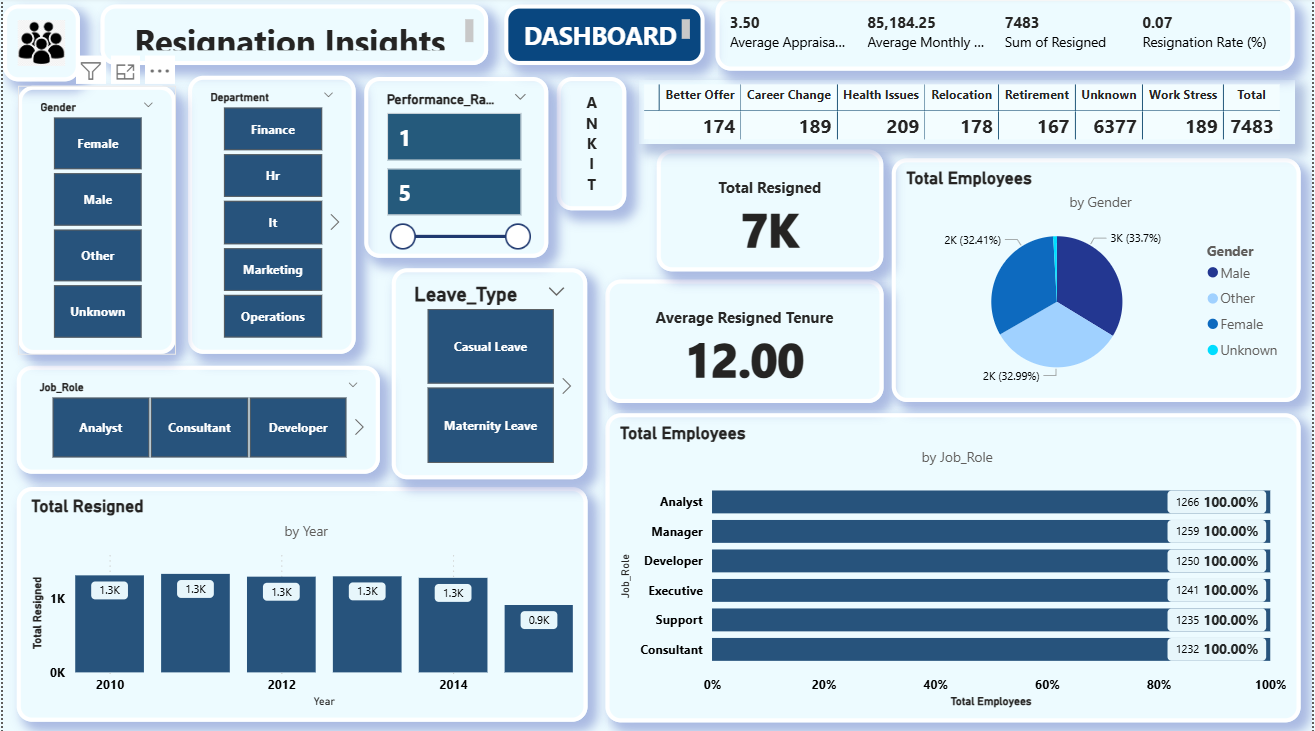

The dashboard page shown, as its layout file describes it:
{"tool":"powerbi","page":{"name":"Resignation Insights ","canvas":[1280,720],"ordinal":3},"visuals":[{"type":"textbox","box":[95.8,7,378.9,59.2],"z":0},{"type":"textbox","box":[490.1,7,195.8,59.2],"z":1000},{"type":"cardVisual","fields":{"Data":["ROW.Average Resigned Tenure"]},"box":[589.2,275.9,272.2,120.6],"z":2000},{"type":"cardVisual","fields":{"Data":["ROW.Total Resigned"]},"box":[640.1,149.2,221.2,119.3],"z":3000},{"type":"slicer","fields":{"Values":["ROW.Department"]},"box":[181.5,77.1,164.1,272.2],"z":4000},{"type":"multiRowCard","fields":{"Values":["ROW.Average Appraisal Score","ROW.Average Monthly Income","Sum(ROW.Resigned)","ROW.Resignation Rate (%)"]},"box":[697.2,0,566.2,71.8],"z":5000},{"type":"textbox","box":[545.4,78.3,68.5,130.8],"z":6000},{"type":"image","box":[0,6.8,75.1,75.1],"z":7000},{"type":"slicer","fields":{"Values":["ROW.Job_Role"]},"box":[13.7,360.5,355.5,105.7],"z":8000},{"type":"columnChart","fields":{"Category":["ROW.Date_of_Joining.Variation.Date Hierarchy.Year","ROW.Date_of_Joining.Variation.Date Hierarchy.Month"],"Y":["ROW.Total Resigned"]},"box":[13.7,479.8,558.1,229.9],"z":9000},{"type":"pieChart","fields":{"Category":["ROW.Gender"],"Y":["ROW.Total Employees"]},"box":[868.8,157.9,400.2,238.6],"z":10000},{"type":"hundredPercentStackedBarChart","fields":{"Category":["ROW.Job_Role"],"Y":["ROW.Total Employees"]},"box":[589.2,407.7,679.9,302],"z":11000},{"type":"pivotTable","fields":{"Columns":["ROW.Clean_Resignation_Reason","ROW.Department","ROW.Job_Role"],"Values":["ROW.Total Employees"]},"box":[622.7,80.8,641.4,63.4],"z":12000},{"type":"slicer","fields":{"Values":["ROW.Gender"]},"box":[14.9,87,154.1,262.3],"z":13000},{"type":"slicer","fields":{"Values":["ROW.Performance_Rating"]},"box":[354.6,77,179.8,177.3],"z":14000},{"type":"slicer","fields":{"Values":["ROW.Leave_Type"]},"box":[380.3,264.8,191.4,206.3],"z":15000}]}

Visuals, with their boxes in screenshot pixels (x1, y1, x2, y2), scaled from the page's 1280x720 canvas onto the 1315x731 screenshot:
textbox: locate(98, 7, 488, 67)
textbox: locate(504, 7, 705, 67)
cardVisual - ROW.Average Resigned Tenure: locate(605, 280, 885, 403)
cardVisual - ROW.Total Resigned: locate(658, 151, 885, 273)
slicer - ROW.Department: locate(186, 78, 355, 355)
multiRowCard - ROW.Average Appraisal Score x ROW.Average Monthly Income: locate(716, 0, 1298, 73)
textbox: locate(560, 79, 631, 212)
image: locate(0, 7, 77, 83)
slicer - ROW.Job_Role: locate(14, 366, 379, 473)
columnChart - ROW.Date_of_Joining.Variation.Date Hierarchy.Year x ROW.Date_of_Joining.Variation.Date Hierarchy.Month: locate(14, 487, 587, 721)
pieChart - ROW.Gender x ROW.Total Employees: locate(893, 160, 1304, 403)
hundredPercentStackedBarChart - ROW.Job_Role x ROW.Total Employees: locate(605, 414, 1304, 721)
pivotTable - ROW.Clean_Resignation_Reason x ROW.Department: locate(640, 82, 1299, 146)
slicer - ROW.Gender: locate(15, 88, 174, 355)
slicer - ROW.Performance_Rating: locate(364, 78, 549, 258)
slicer - ROW.Leave_Type: locate(391, 269, 587, 478)
